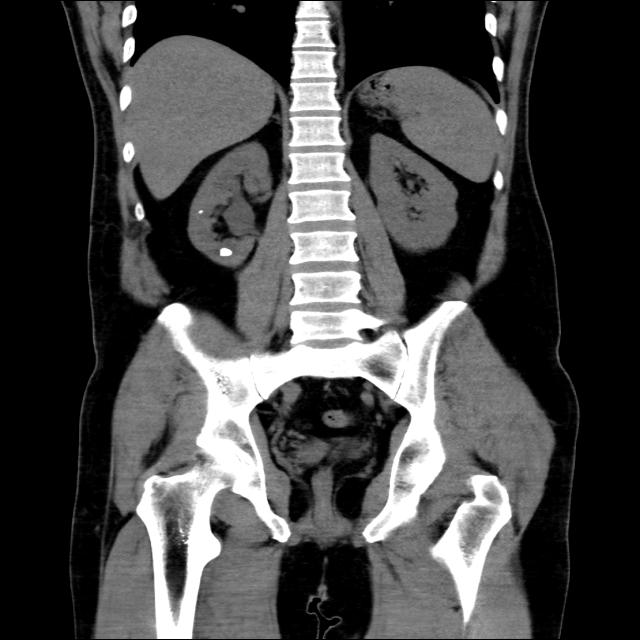kidneystone: (219, 248, 232, 257)
